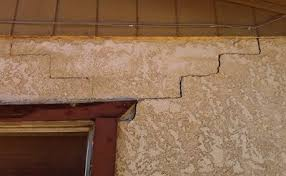stairstep_crack: (136, 36, 262, 101), (7, 38, 92, 96)
